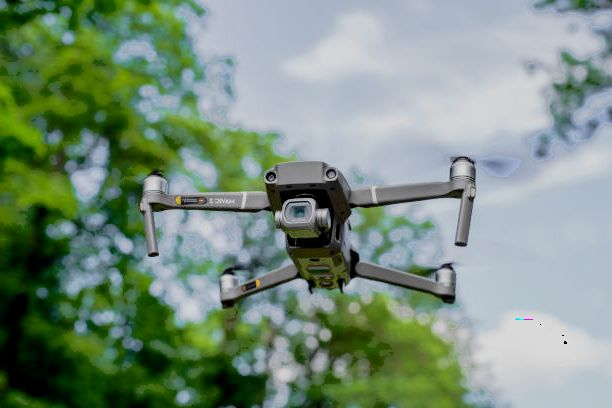Drone: (99, 152, 531, 313)
